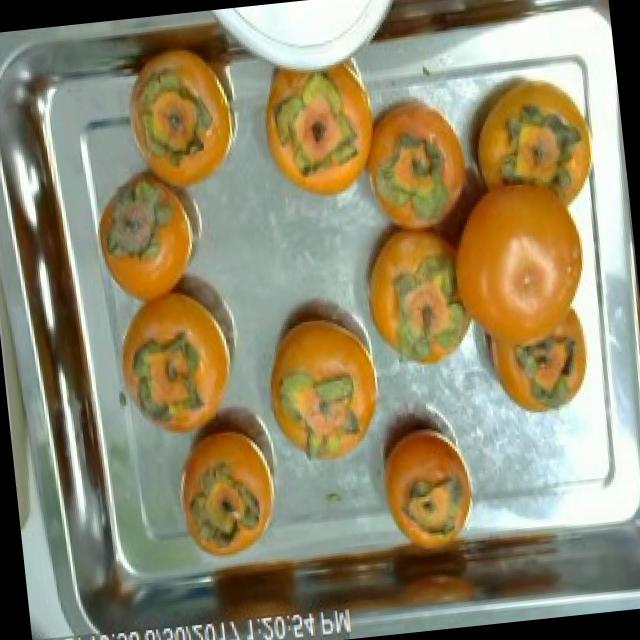Fruit: (239, 32, 402, 220), (249, 282, 390, 482), (108, 22, 255, 208), (112, 264, 250, 454), (82, 145, 226, 318), (162, 409, 291, 572), (362, 406, 487, 554)
